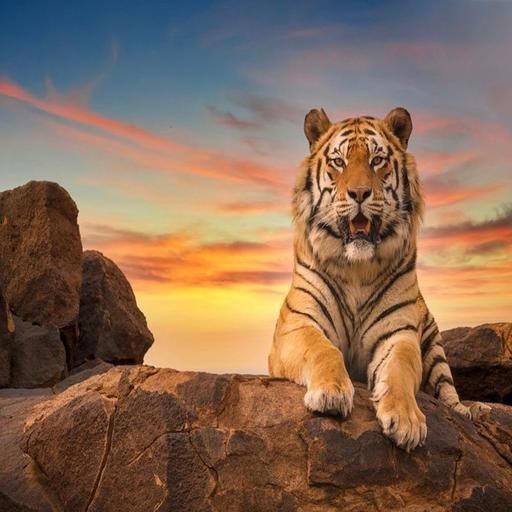Tiger: (253, 95, 511, 458)
